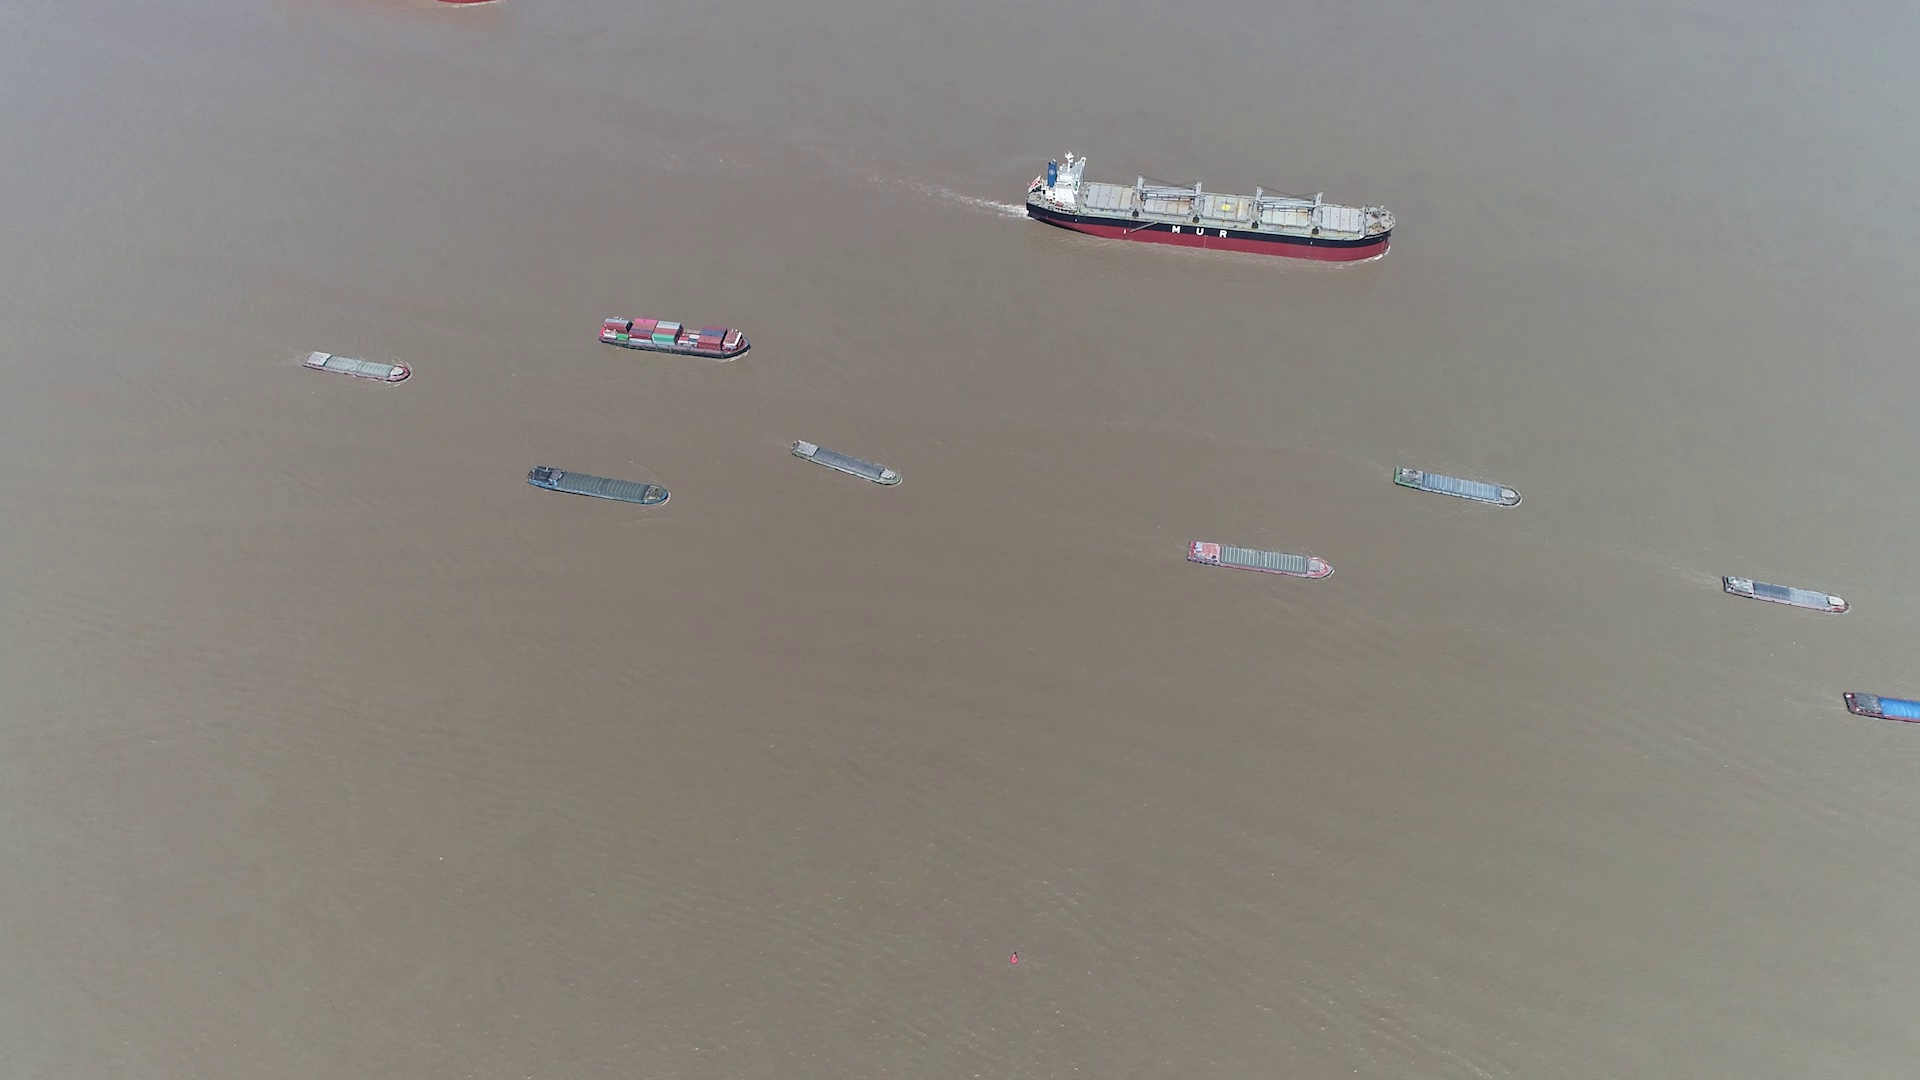ship: (1025, 160, 1393, 258), (599, 316, 752, 357), (527, 467, 670, 508), (790, 440, 905, 491), (1393, 467, 1524, 509), (1188, 541, 1331, 579), (1721, 575, 1849, 615), (303, 349, 411, 384), (1844, 688, 1919, 727)
